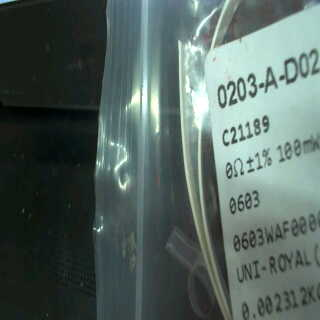0R: (222, 129, 318, 222)
